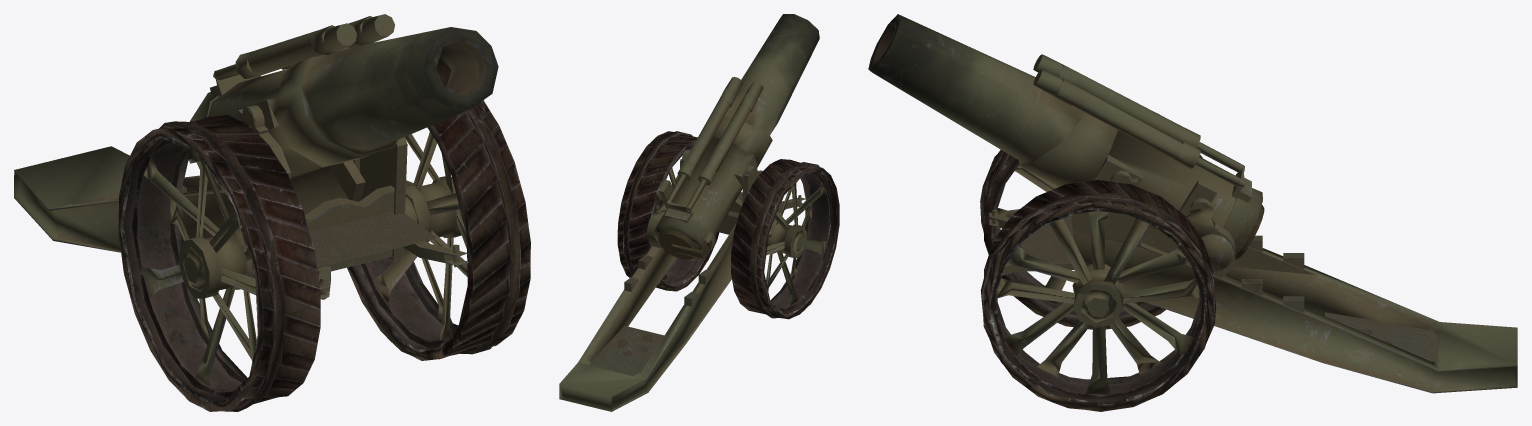
The model's file is artybl8.dae.
The picture shows the model from 3 angles, left to right: view 1: azimuth 30°, elevation 25°; view 2: azimuth 150°, elevation 25°; view 3: azimuth 270°, elevation 25°; orthographic projection. The views are drawn at different scales.
Visible parts, largest first — view 1: wheels, barrel, base, gun; view 2: wheels, base, barrel, gun; view 3: wheels, base, barrel, gun.
Part boxes in pixels (x1=…): wheels: x1=118, y1=100, x2=530, y2=411; barrel: x1=188, y1=27, x2=498, y2=182; base: x1=14, y1=105, x2=468, y2=299; gun: x1=235, y1=14, x2=394, y2=78; wheels: x1=617, y1=131, x2=839, y2=319; base: x1=559, y1=149, x2=805, y2=411; barrel: x1=652, y1=14, x2=819, y2=261; gun: x1=677, y1=77, x2=763, y2=185; wheels: x1=980, y1=113, x2=1215, y2=411; base: x1=989, y1=170, x2=1517, y2=393; barrel: x1=868, y1=14, x2=1264, y2=259; gun: x1=1033, y1=54, x2=1439, y2=371.
Size of the model in its own units: 24.87 by 65.77 by 39.33.
Materials: 1 (1 with a texture image).
